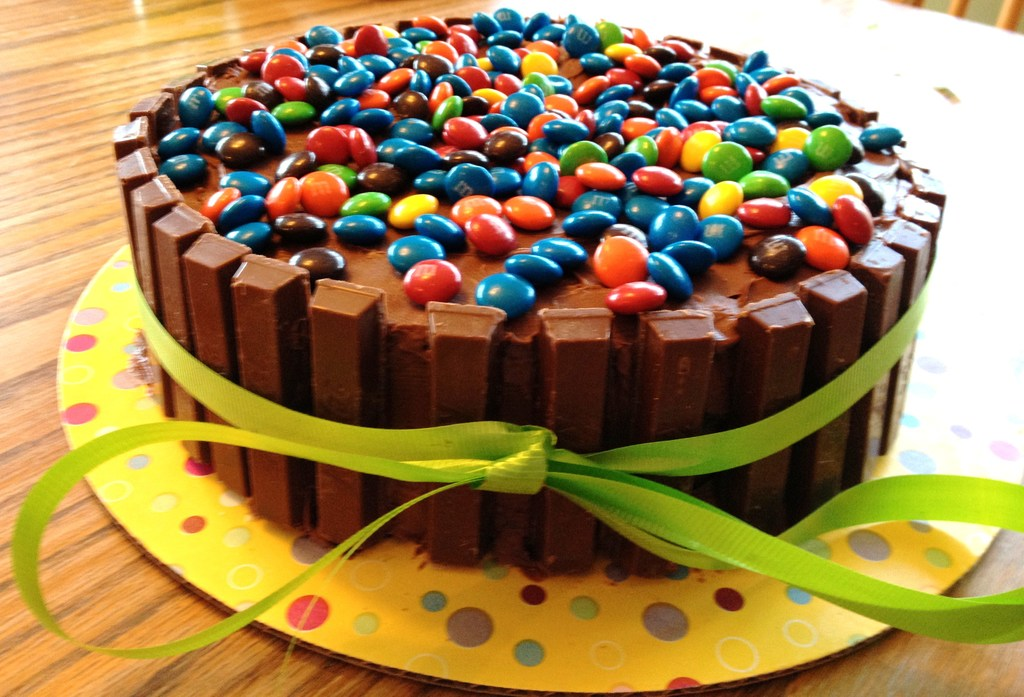cake: (113, 6, 945, 579)
